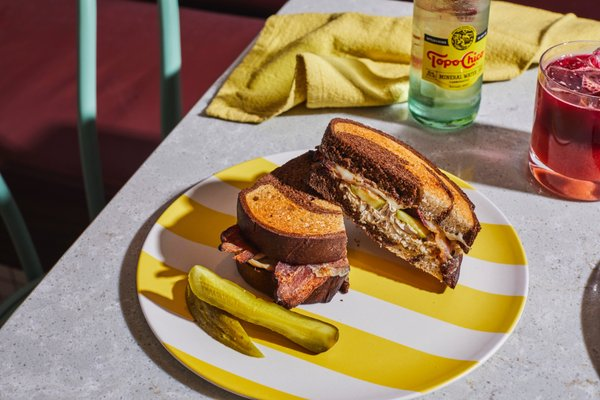pizza: (526, 39, 600, 202)
soup: (314, 116, 482, 289), (223, 151, 351, 308)
